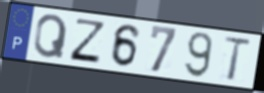6: (109, 22, 142, 69)
7: (148, 24, 178, 76)
9: (182, 31, 215, 80)
Q: (32, 13, 70, 60)
T: (222, 36, 253, 83)
Z: (67, 17, 108, 66)
